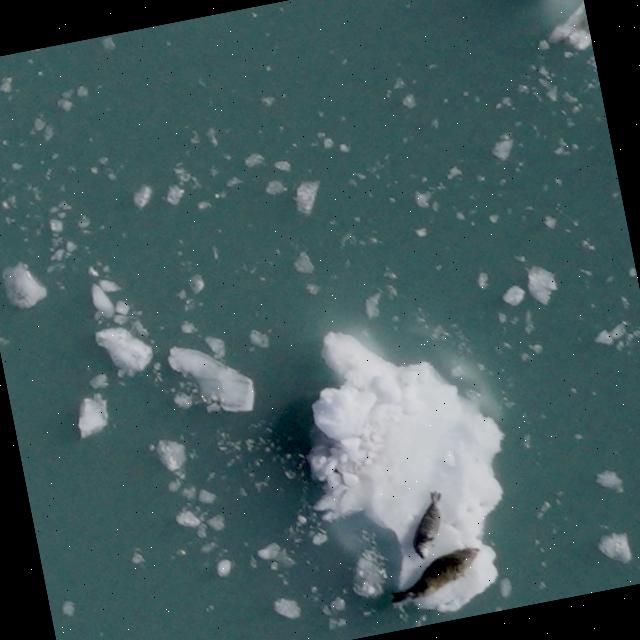seal: (379, 540, 490, 607), (398, 486, 458, 566)
